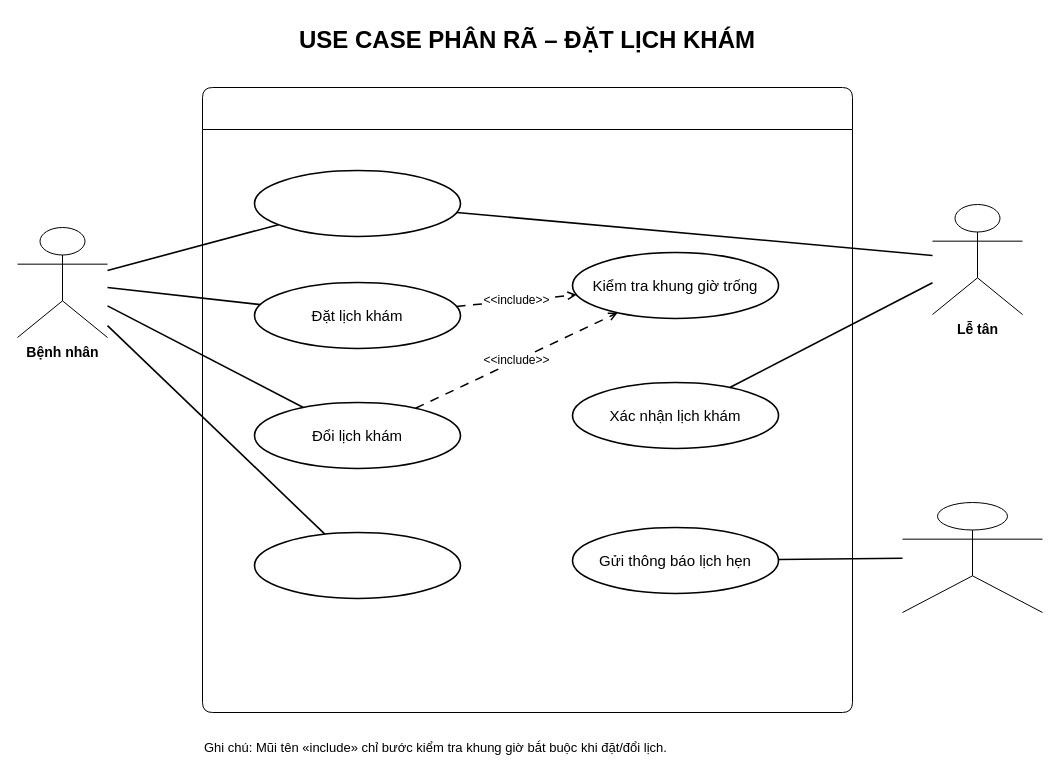
Image size: 1060x777. Some labels were removed from this diagram. The box of each missing label's shape, as (x1, y1, x2, y2) in pixels:
Dịch vụ SMS/email: (902, 502, 1042, 612)
HỆ THỐNG ĐẶT LỊCH KHÁM: (202, 86, 852, 712)
Hủy lịch khám: (253, 531, 461, 599)
Xem lịch khám: (253, 169, 461, 237)
